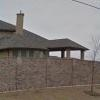Chimney: (10, 9, 34, 40)
